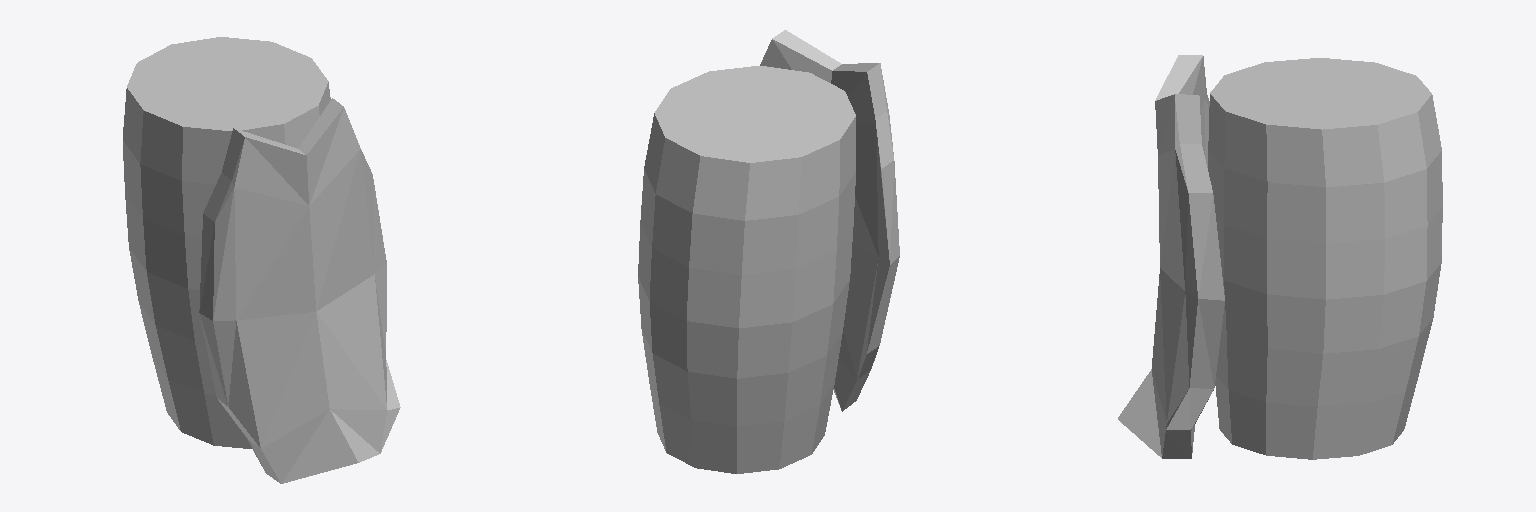
The model's file is UpperLeg_L.obj.
3 views of the same model, side by side, from view 1: azimuth 30°, elevation 25°; view 2: azimuth 150°, elevation 25°; view 3: azimuth 270°, elevation 25° (orthographic).
Visible parts, largest first — view 1: UpperLeg_L pCube60, pCylinder68 UpperLeg_L; view 2: pCylinder68 UpperLeg_L, UpperLeg_L pCube60; view 3: pCylinder68 UpperLeg_L, UpperLeg_L pCube60.
Part boxes in pixels (left/top/right/bottom): UpperLeg_L pCube60: left=199, top=98, right=400, bottom=483; pCylinder68 UpperLeg_L: left=123, top=37, right=330, bottom=448; pCylinder68 UpperLeg_L: left=638, top=66, right=855, bottom=473; UpperLeg_L pCube60: left=760, top=30, right=899, bottom=411; pCylinder68 UpperLeg_L: left=1208, top=58, right=1442, bottom=459; UpperLeg_L pCube60: left=1118, top=55, right=1224, bottom=458.
Bounding box in the file's own units: 1.35 × 2.46 × 2.03.